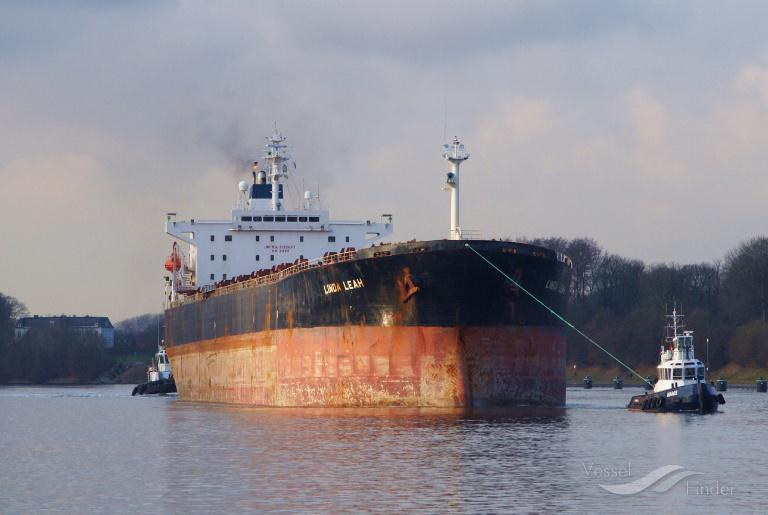OCR: (310, 279, 372, 298)
